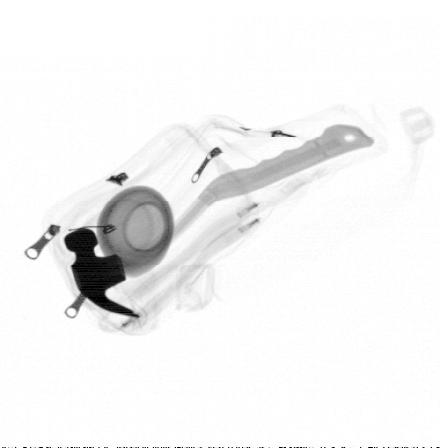Hammer: (64, 122, 376, 319)
